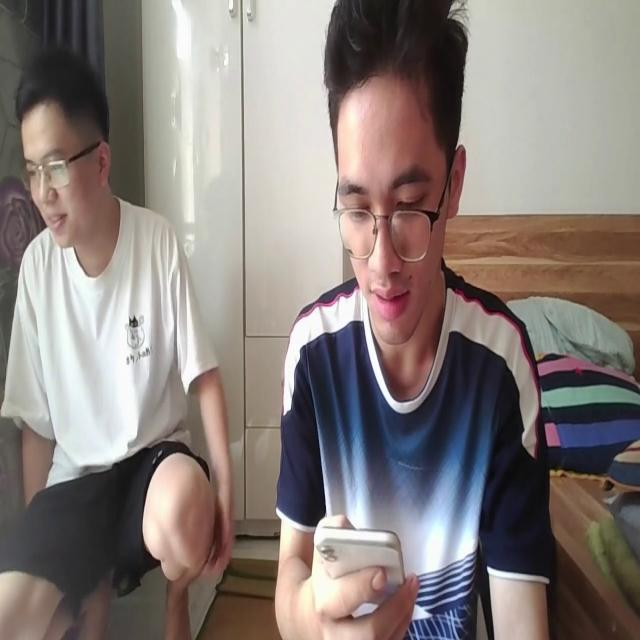extra_person: (3, 37, 235, 640)
phone: (311, 515, 408, 623)
student: (272, 0, 556, 640)
